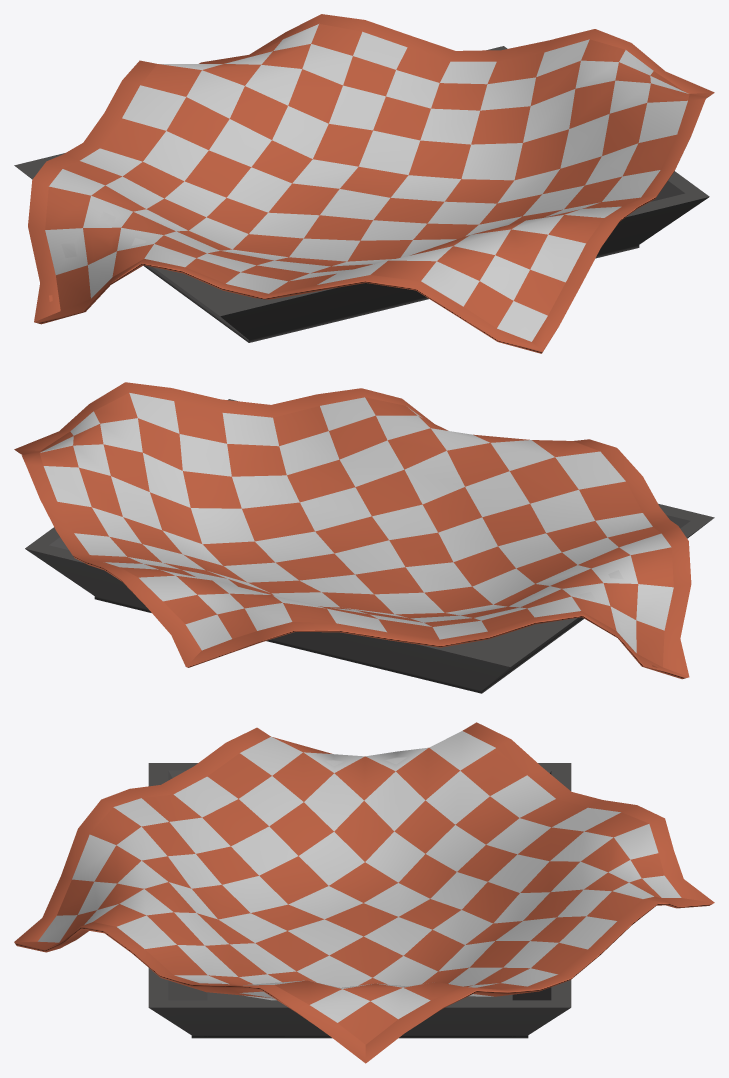
The model's file is tray.fbx.
3 views of the same model, one above another, from view 1: azimuth 30°, elevation 25°; view 2: azimuth 150°, elevation 25°; view 3: azimuth 270°, elevation 25° (orthographic). The views are drawn at different scales.
Parts seen in each view (by area): view 1: trayWrapper, tray; view 2: trayWrapper, tray; view 3: trayWrapper, tray.
Boxes of the visible parts, x1,y1,x2,y2 form: trayWrapper: (28, 14, 714, 353); tray: (14, 46, 709, 342); trayWrapper: (14, 382, 691, 679); tray: (25, 399, 714, 693); trayWrapper: (14, 722, 714, 1063); tray: (148, 763, 571, 1038).
Size of the model in its own units: 17.87 by 2.82 by 15.54.
